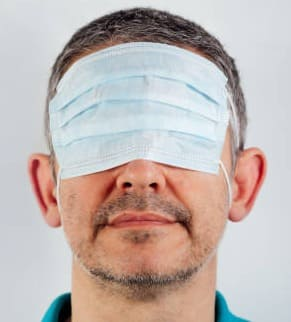with_incorrect_mask: (55, 59, 231, 279)
